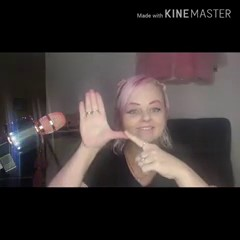A: (77, 87, 178, 180)
